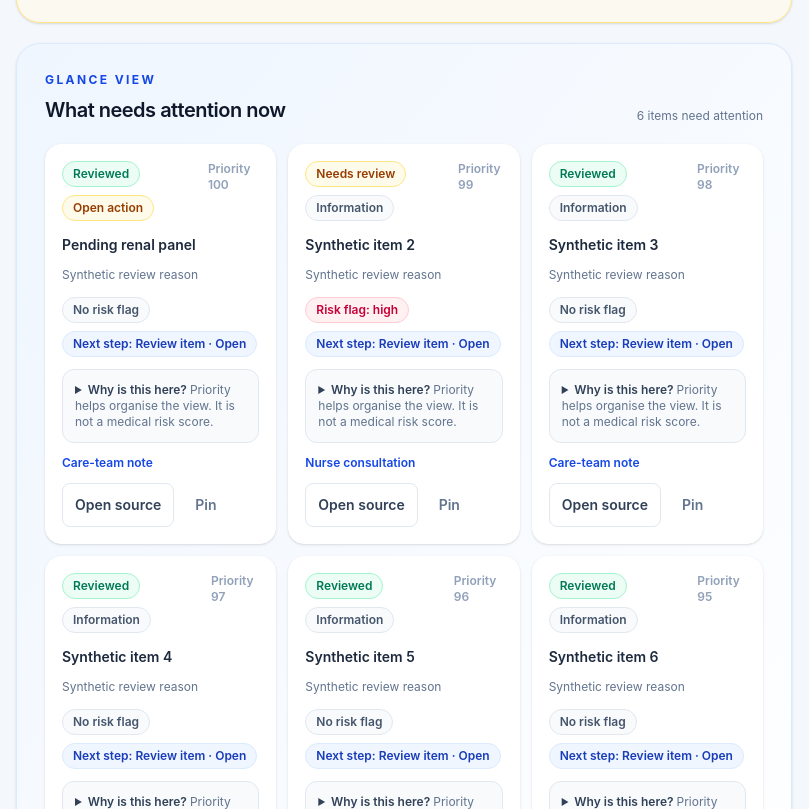
Test: Gate B shared care note › shows bounded ranking contributions and sends pin feedback
This screenshot has width=809, height=809.
(page scrolled)
Click the heading with test id "ranking-details" below "Open action" at (161, 406), box 75,382 -> 246,430
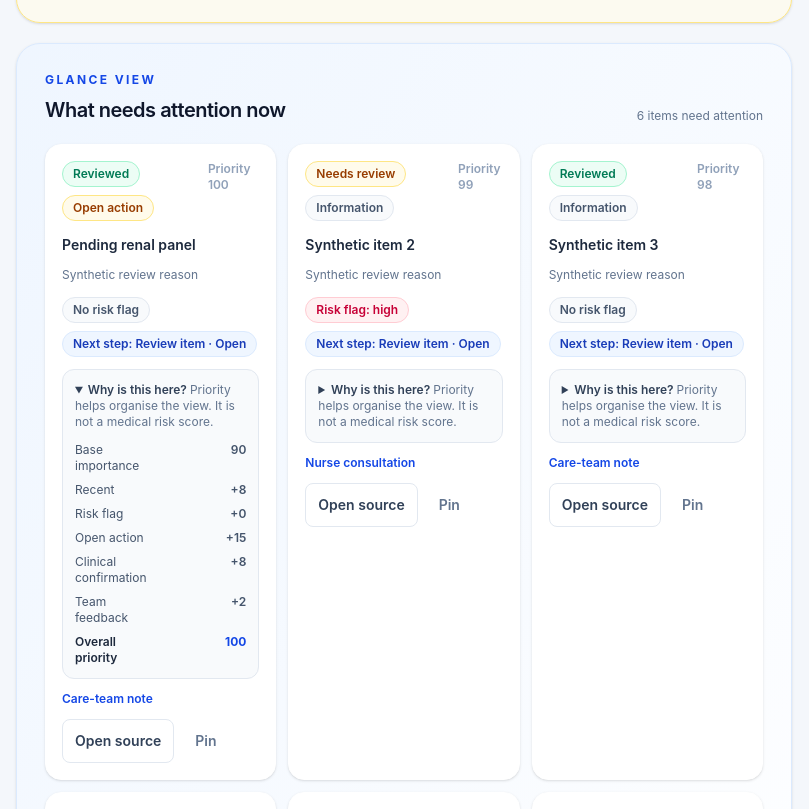
Expected: the 1st text "Priority helps organise the view. It is not a medical risk score." is shown, 75,382 -> 235,428
Click the button "Pin" below "Overall priority" at (206, 740), box 182,718 -> 230,762
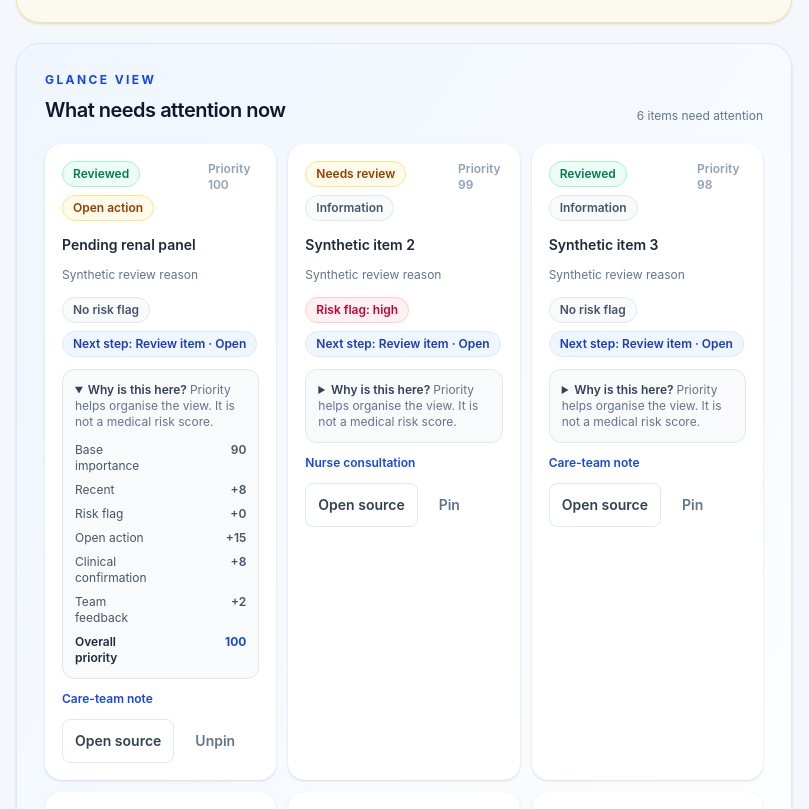
Result: the button "Unpin" is shown at 182,718 -> 248,762
